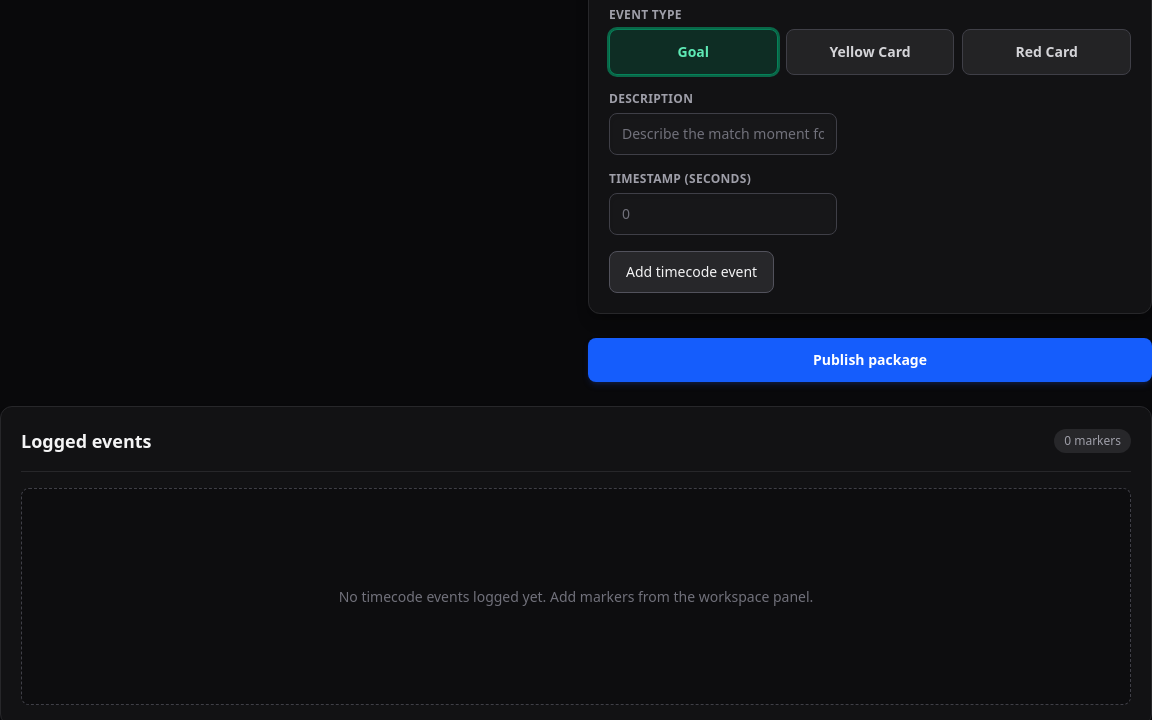
Test case: AdminEventForm › should display validation errors when submitting an empty form
(page scrolled)
What coordinates should you click on to do the following:
click the button "Publish package"
I would click on:
 (870, 360)
Its box is x1=588 y1=338 x2=1151 y2=382.
(page scrolled)
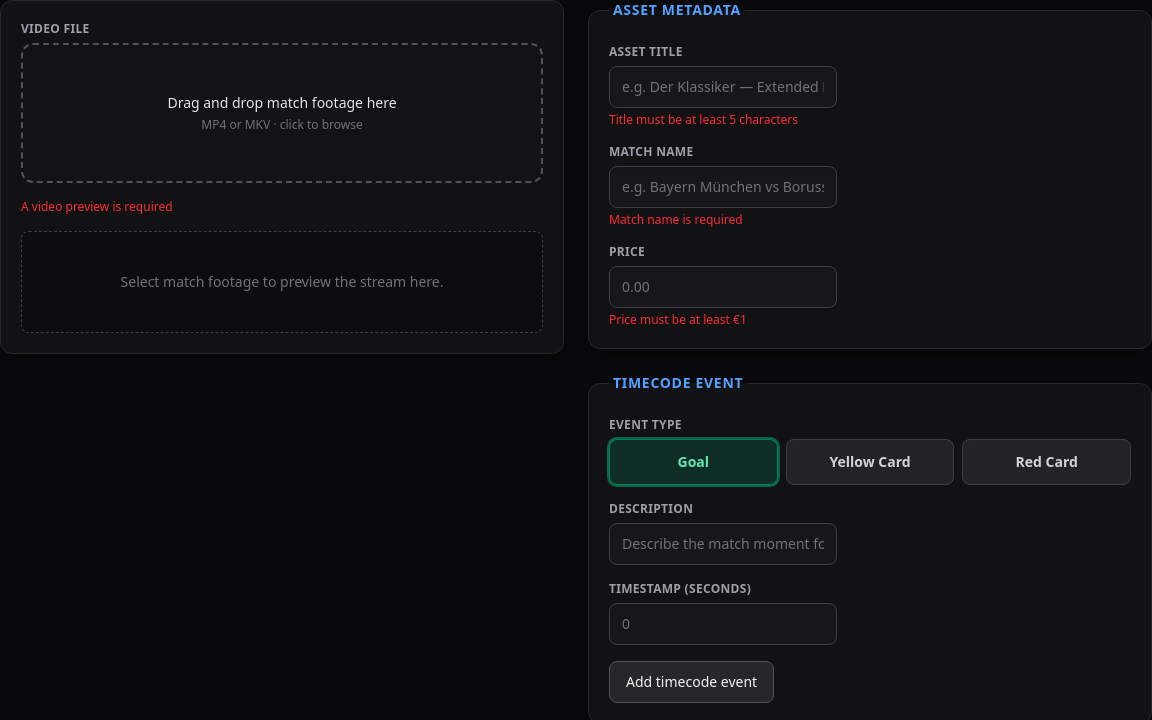
Now the text "Title must be at least 5 characters" is shown, box x1=609 y1=111 x2=798 y2=128
Now the text "Match name is required" is shown, box x1=609 y1=211 x2=743 y2=228
Now the text "Price must be at least €1" is shown, box x1=609 y1=311 x2=747 y2=328
